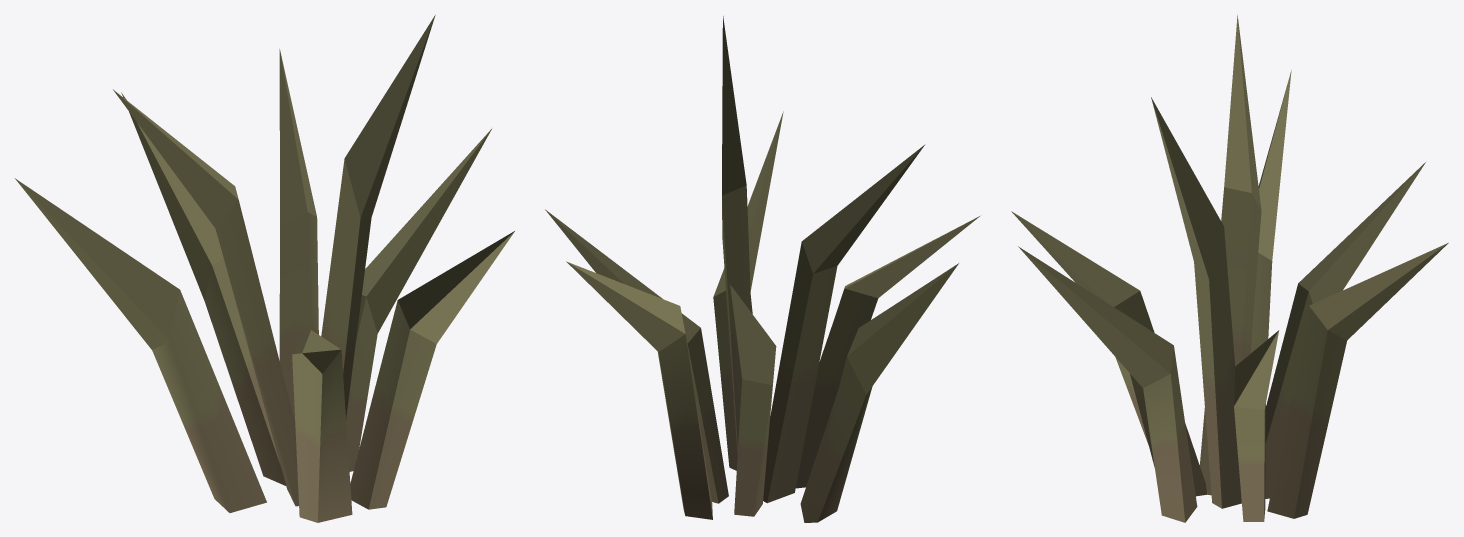
The model's file is SM_Env_Grass_02.fbx.
The picture shows the model from 3 angles, left to right: view 1: azimuth 30°, elevation 25°; view 2: azimuth 150°, elevation 25°; view 3: azimuth 270°, elevation 25°; orthographic projection. The views are drawn at different scales.
Parts seen in each view (by area): view 1: SM_Env_Grass_02; view 2: SM_Env_Grass_02; view 3: SM_Env_Grass_02.
Part boxes in pixels (x1,y1,x2,y2): SM_Env_Grass_02: [15, 15, 514, 522]; SM_Env_Grass_02: [545, 16, 979, 522]; SM_Env_Grass_02: [1011, 15, 1448, 522].
Size of the model in its own units: 112 by 111 by 100.
